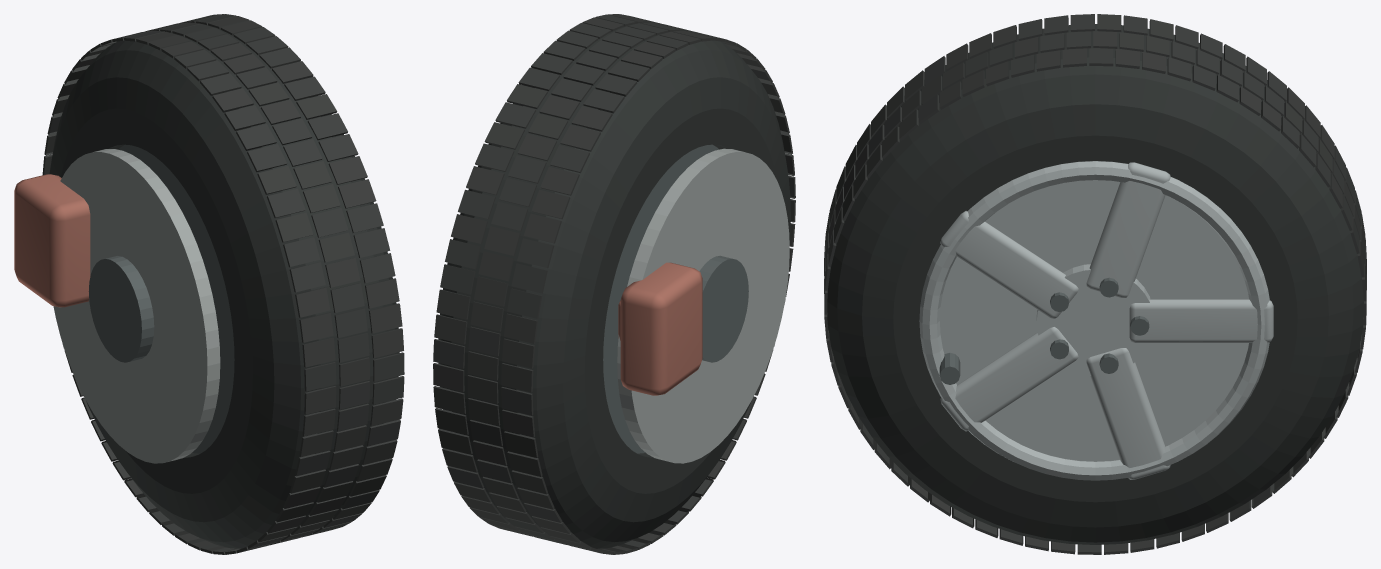
Rendered from A141_hatchback_wheel_and_tire.glb.
3 views of the same model, side by side, from view 1: azimuth 30°, elevation 25°; view 2: azimuth 150°, elevation 25°; view 3: azimuth 270°, elevation 25° (orthographic). The views are drawn at different scales.
Parts seen in each view (by area): view 1: Tire carcass, Directional tire tread, Brake disc, Stationary brake caliper, Brake disc hat, Inner wheel barrel; view 2: Tire carcass, Directional tire tread, Brake disc, Stationary brake caliper, Inner wheel barrel, Brake disc hat; view 3: Tire carcass, Outer alloy rim, Directional tire tread, Outer rim bead, Alloy spoke 2, Alloy spoke 3, Alloy spoke 1, Hub face, Alloy spoke 4, Alloy spoke 5.
Part boxes in pixels (box(x1,y1,x2,y2)): Tire carcass: box(49, 24, 399, 548); Directional tire tread: box(42, 14, 404, 554); Brake disc: box(53, 149, 220, 463); Stationary brake caliper: box(14, 174, 90, 307); Brake disc hat: box(88, 256, 154, 362); Inner wheel barrel: box(118, 144, 234, 453); Tire carcass: box(438, 24, 790, 548); Directional tire tread: box(433, 14, 795, 554); Brake disc: box(617, 148, 789, 463); Stationary brake caliper: box(620, 262, 702, 395); Inner wheel barrel: box(603, 144, 719, 453); Brake disc hat: box(699, 255, 748, 362); Tire carcass: box(827, 24, 1363, 544); Outer alloy rim: box(939, 180, 1248, 461); Directional tire tread: box(824, 14, 1366, 554); Outer rim bead: box(919, 161, 1269, 480); Alloy spoke 2: box(1086, 162, 1170, 297); Alloy spoke 3: box(940, 210, 1078, 318); Alloy spoke 1: box(1129, 299, 1273, 342); Hub face: box(1036, 264, 1150, 375); Alloy spoke 4: box(940, 327, 1078, 431); Alloy spoke 5: box(1086, 348, 1170, 479).
Bounding box in the file's own units: 0.37 × 0.746 × 0.746.
